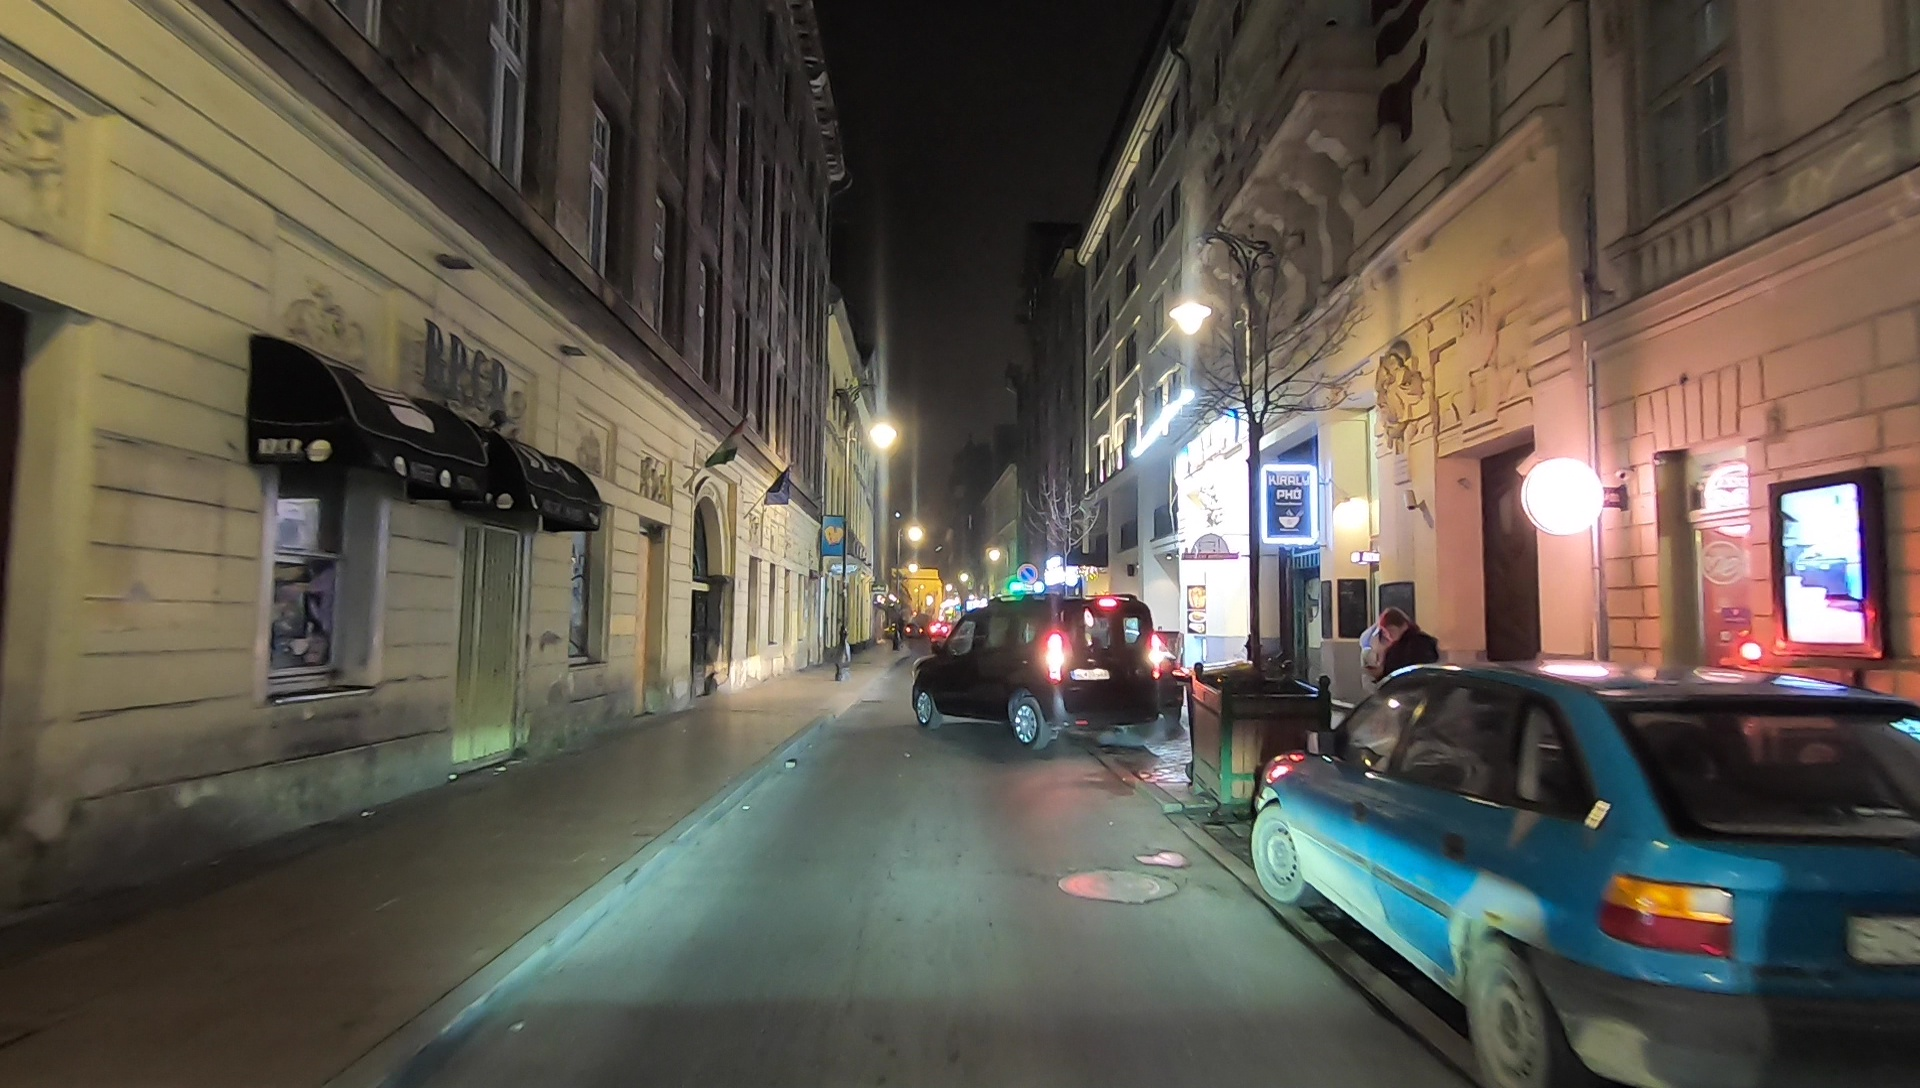person: (1375, 604, 1445, 747)
